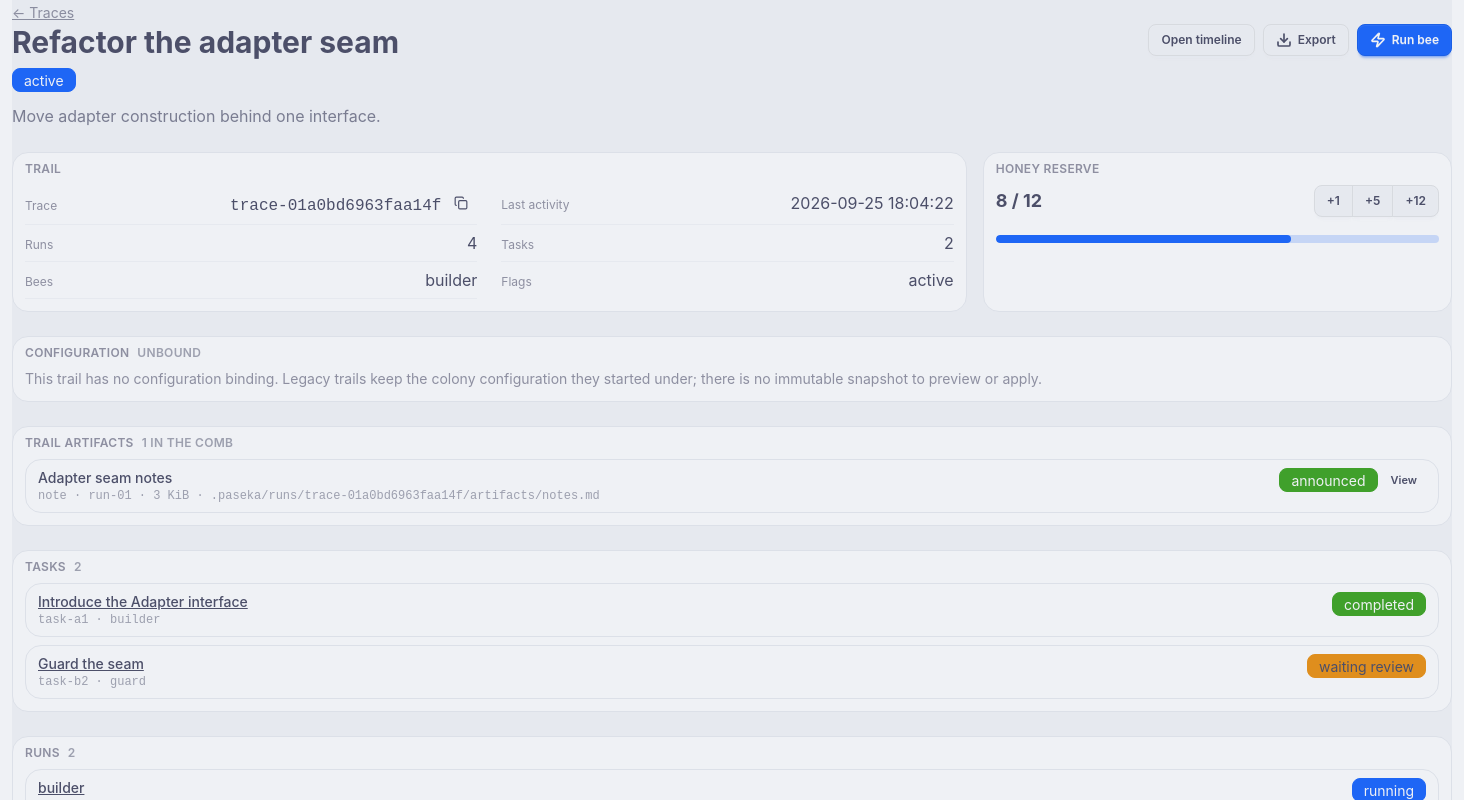
Test case: trace detail › offers the honey top-ups and reports the outcome through a toast
Expected: the text "8 / 12" is shown, [996, 187, 1042, 215]
Click the button "+5" at [1373, 201], box [1352, 185, 1393, 217]
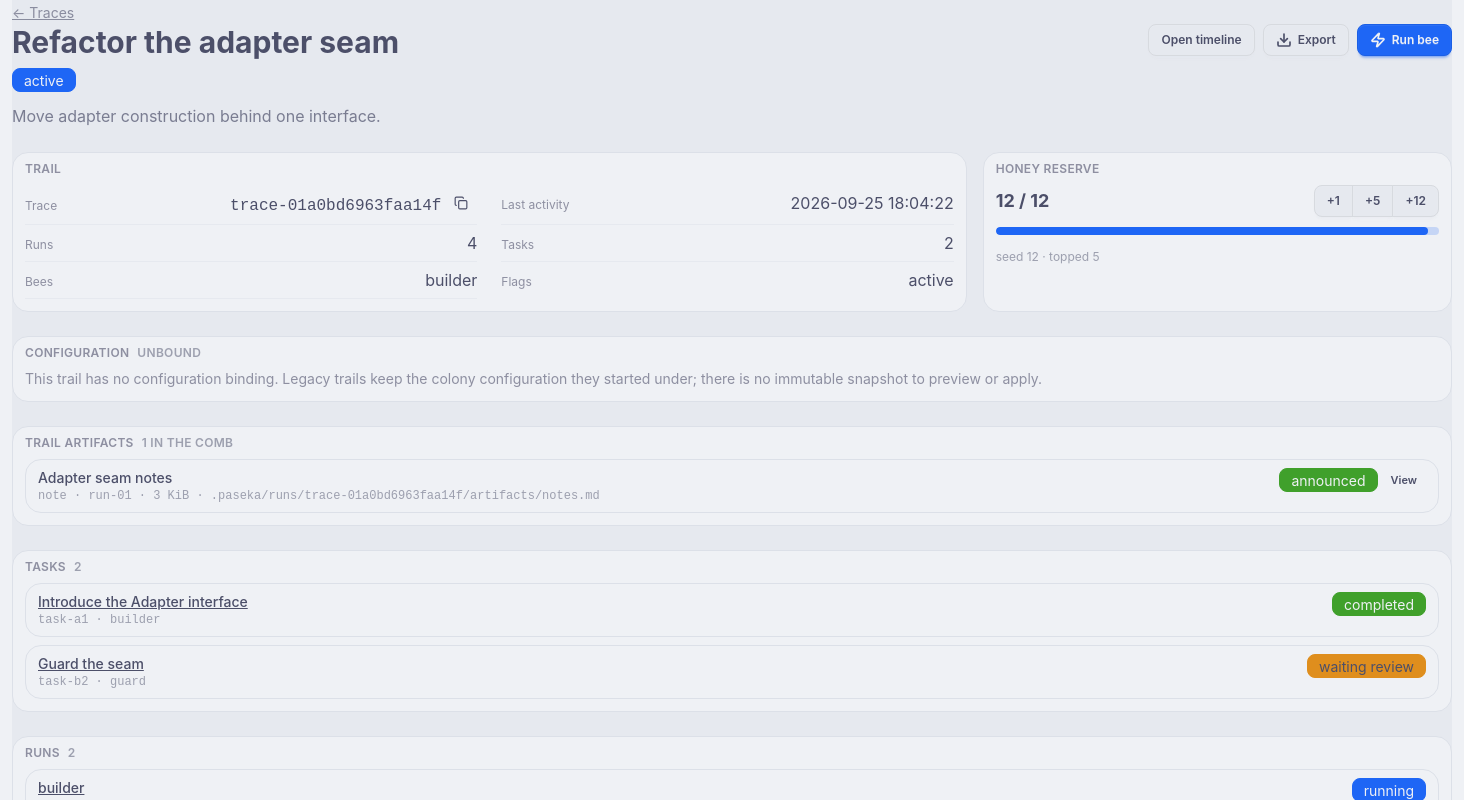
Expected: the text "12 / 12" is shown, [996, 187, 1049, 215]
